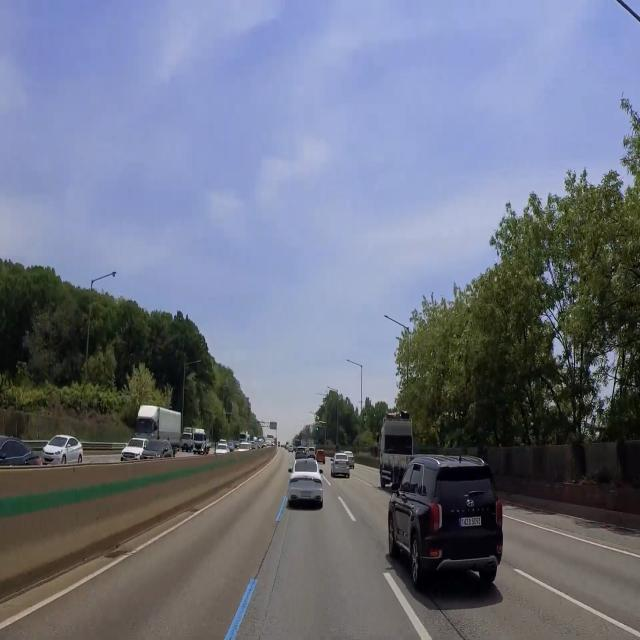car: (458, 513, 483, 531), (297, 490, 316, 502), (338, 464, 347, 472)
